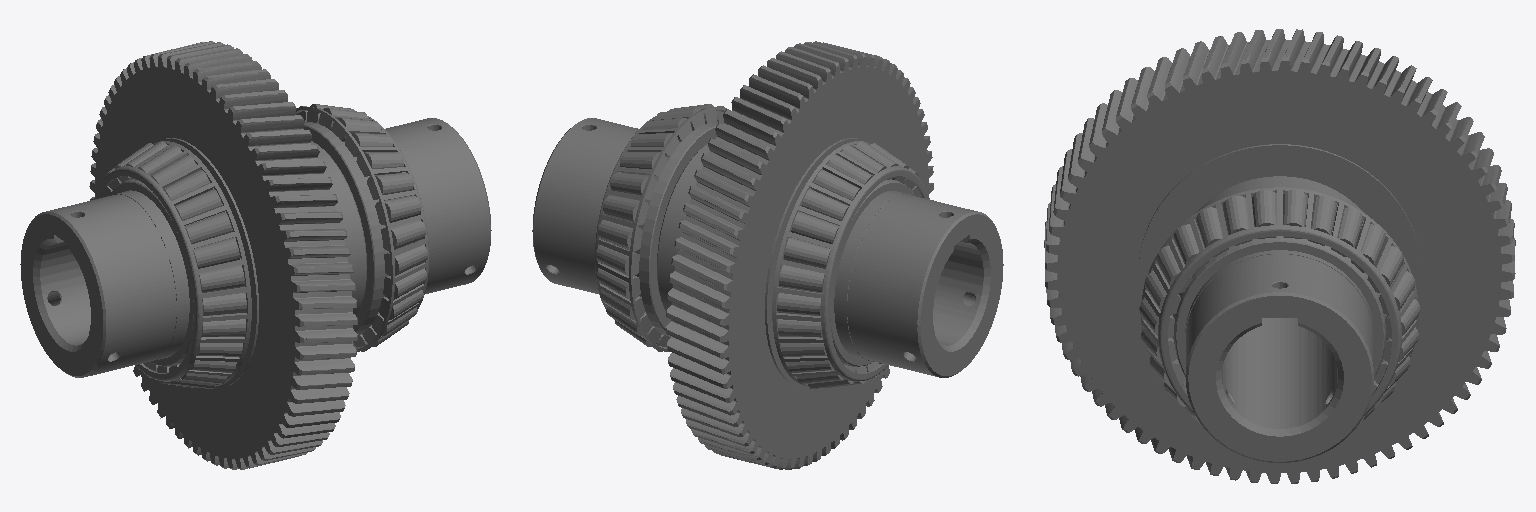
robot.urdf — output:
<?xml version="0.0" ?>
<robot name="output">
  <link name="output_link">
    <inertial>
      <mass value="1.4"/>
      <inertia ixx="0.1" ixy="0.0" ixz="0.0" iyy="0.1" iyz="0.0" izz="0.1"/>
    </inertial>
    <visual>
      <origin rpy="0 0 0" xyz="0 0 0"/>
      <geometry>
        <mesh filename="output.stl"/>
      </geometry>
      <material name="white">
        <color rgba="0.5 0.5 0.5 1"/>
      </material>
    </visual>
    <collision>
      <origin rpy="0 0 0" xyz="0 0 0"/>
      <geometry>
	<mesh filename="output.stl"/>
      </geometry>
    </collision>
  </link>
</robot>

--- Render facts (derived) ---
3 views of the same robot in one strip: view 1: azimuth 30°, elevation 25°; view 2: azimuth 150°, elevation 25°; view 3: azimuth 270°, elevation 25° (orthographic).
Model output with 1 links and 0 joints (none), rooted at output_link, posed all joints at 0.
Visible links, largest first — view 1: output_link; view 2: output_link; view 3: output_link.
Boxes of the visible links, <box> form: output_link: <box>20,41,491,469</box>; output_link: <box>532,41,1003,469</box>; output_link: <box>1044,29,1515,483</box>.
Size in the robot's own frame: 0.1697 by 0.1612 by 0.1612 metres.
1 mesh visuals loaded from 1 distinct referenced files (1 binary STL).